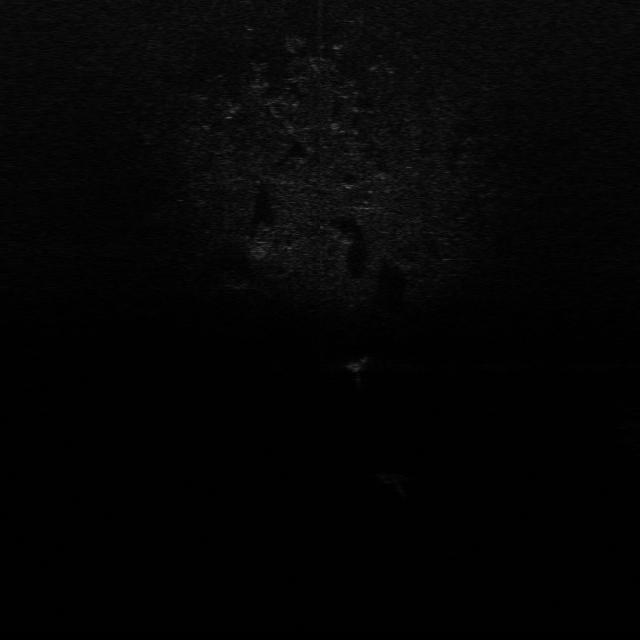cube: (377, 471, 413, 486)
square cage: (339, 352, 373, 373)
